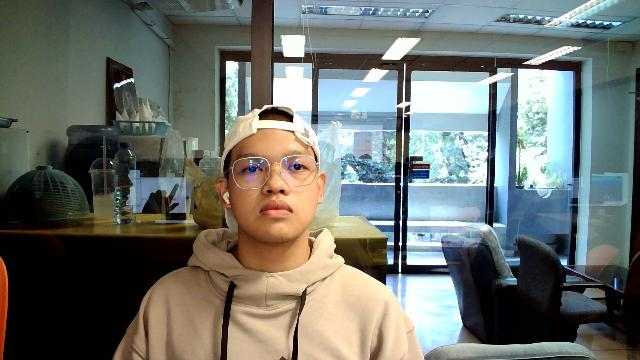fokus: (217, 105, 328, 248)
